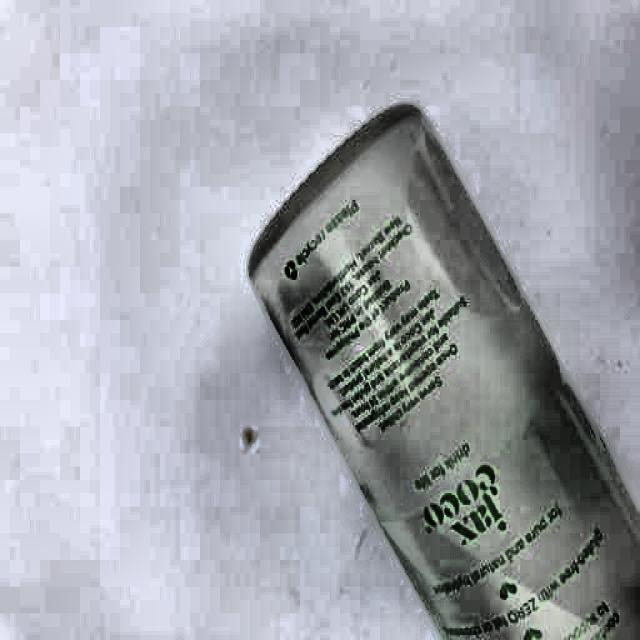glass: (241, 97, 639, 640)
